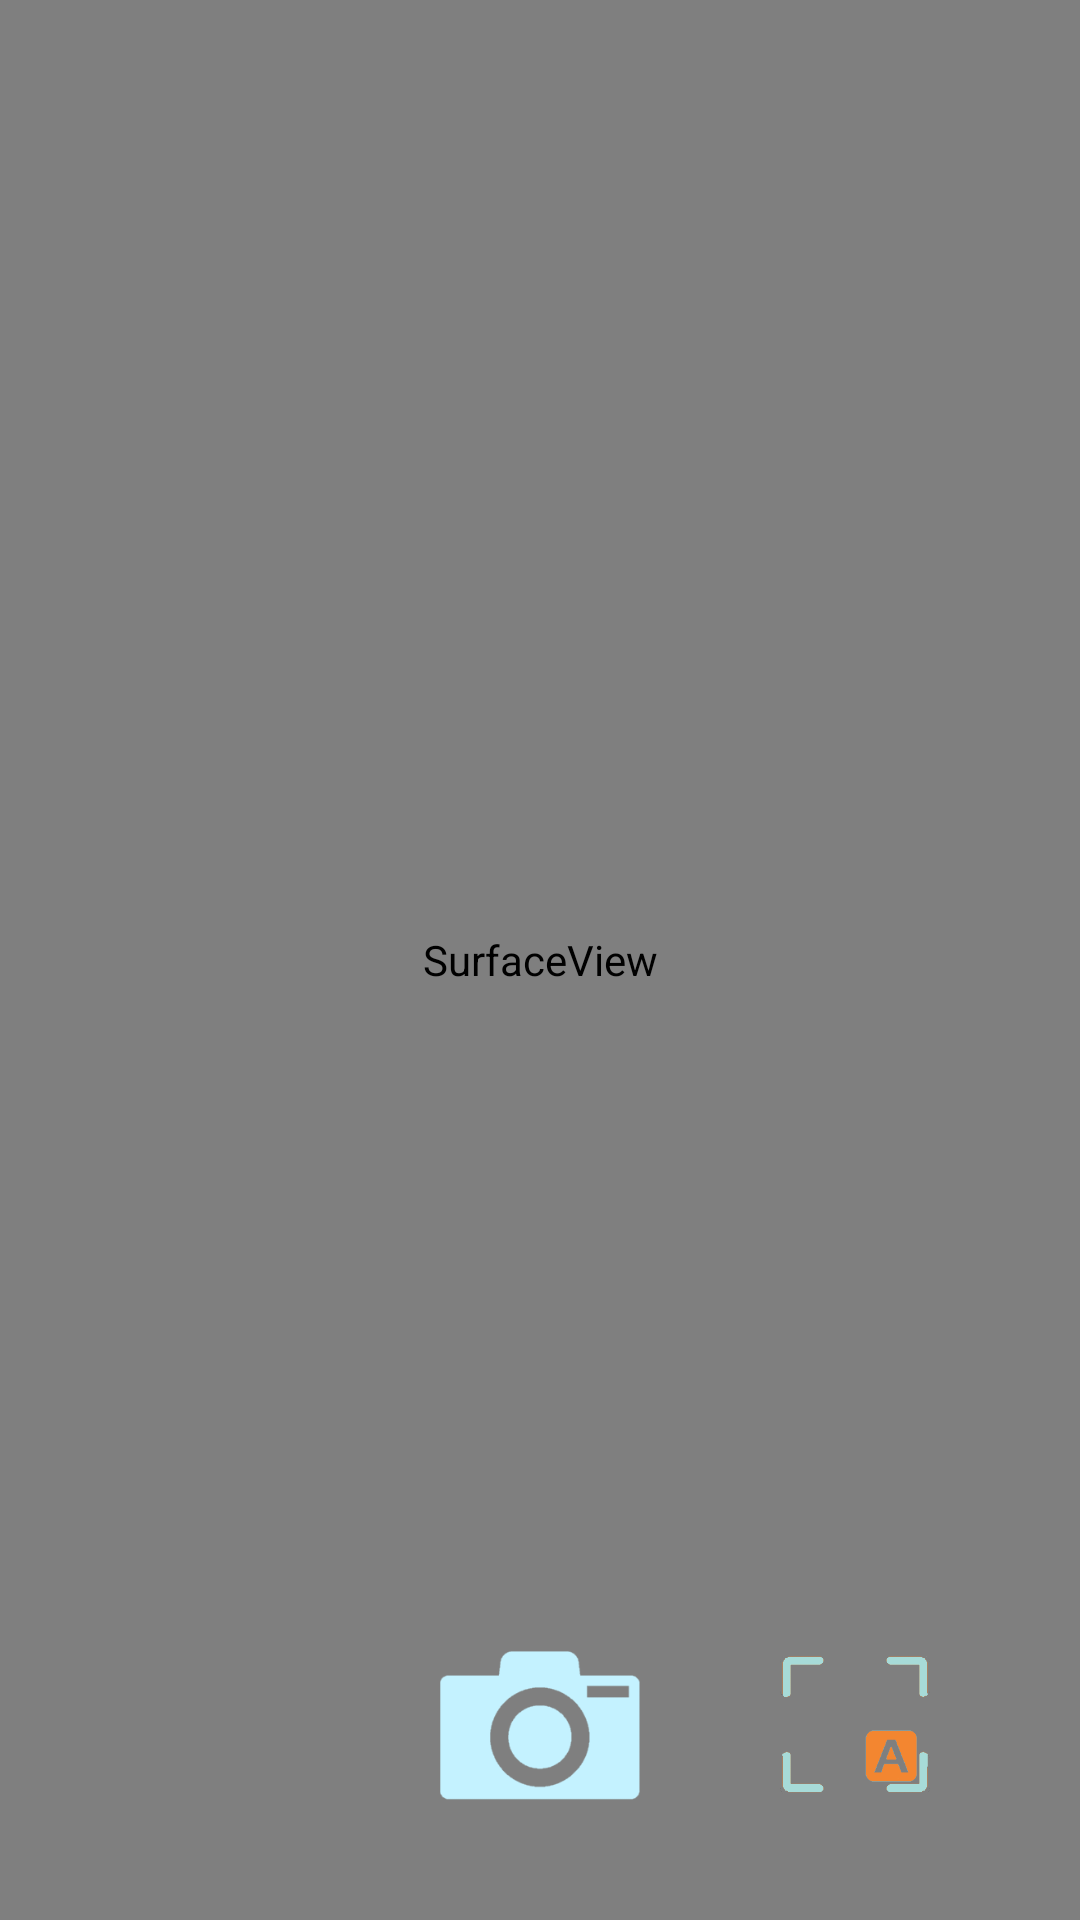

Icons on this 1080×1920 Android screen, each with its box as (x1, y1, x2, y2):
focus layout: (782, 1656, 928, 1792)
shutter layout: (440, 1651, 640, 1800)
